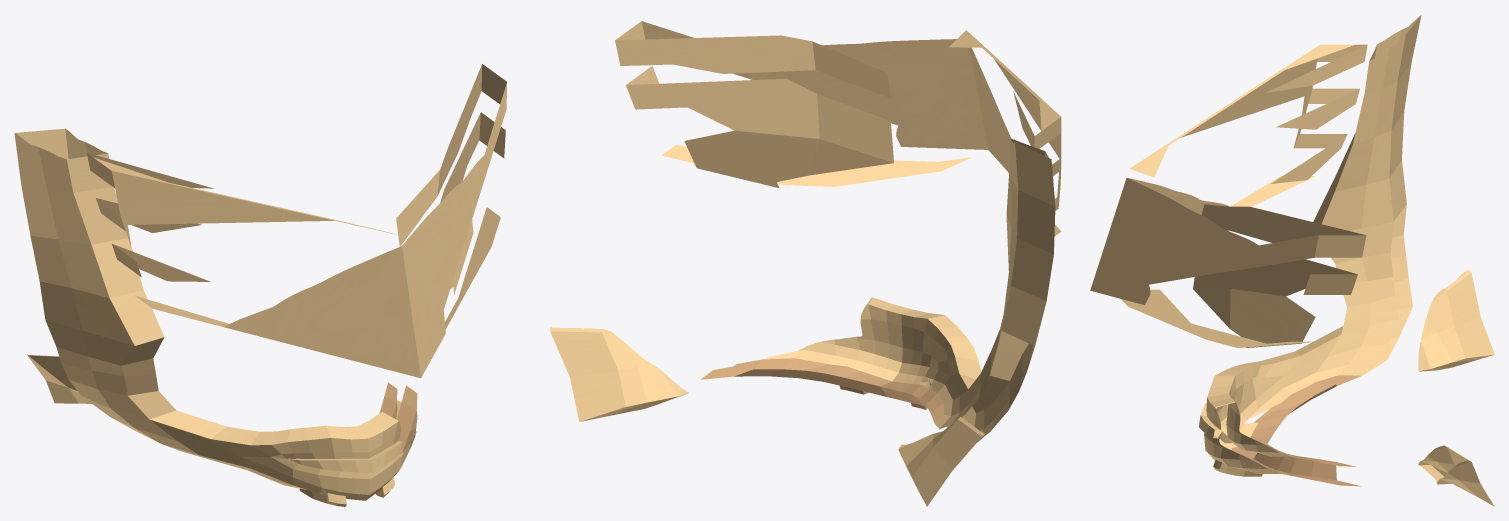
Rendered from Male_HeadGear.fbx.
3 views of the same model, side by side, from view 1: azimuth 30°, elevation 25°; view 2: azimuth 150°, elevation 25°; view 3: azimuth 270°, elevation 25° (orthographic). The views are drawn at different scales.
Visible parts, largest first — view 1: Head.000, Head.002; view 2: Head.002, Head.000; view 3: Head.000, Head.002.
Boxes of the visible parts, x1,y1,x2,y2 form: Head.000: (14, 128, 417, 506); Head.002: (87, 64, 506, 378); Head.002: (615, 21, 1061, 235); Head.000: (550, 138, 1055, 506); Head.000: (1199, 15, 1494, 506); Head.002: (1090, 44, 1367, 347).
Bounding box in the file's own units: 78.74 × 55.07 × 59.73.
